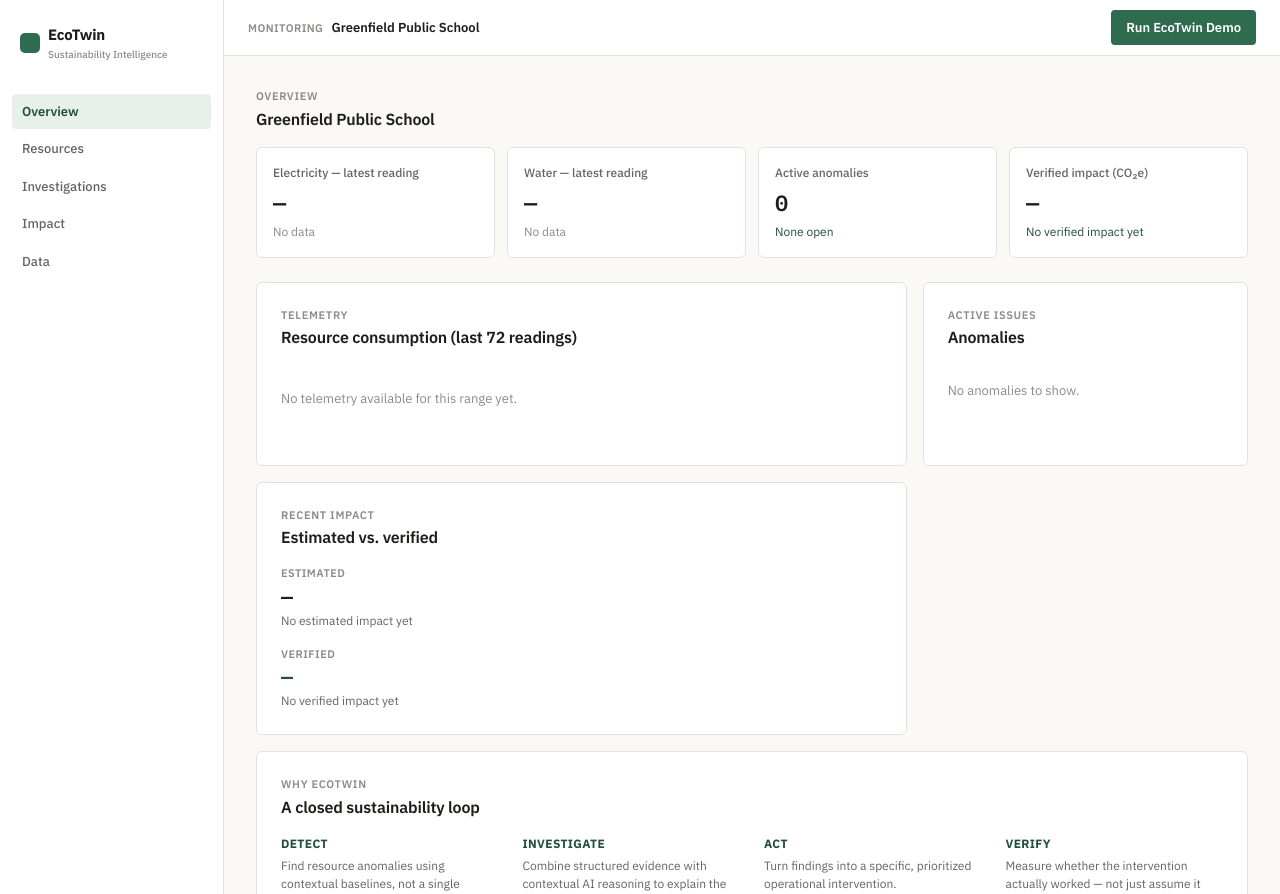
Test: App › navigates to the Investigations page
The width and height of the screenshot is (1280, 894).
Step 1. Click the link "Investigations" → x=64, y=186, box x1=22 y1=178 x2=107 y2=194
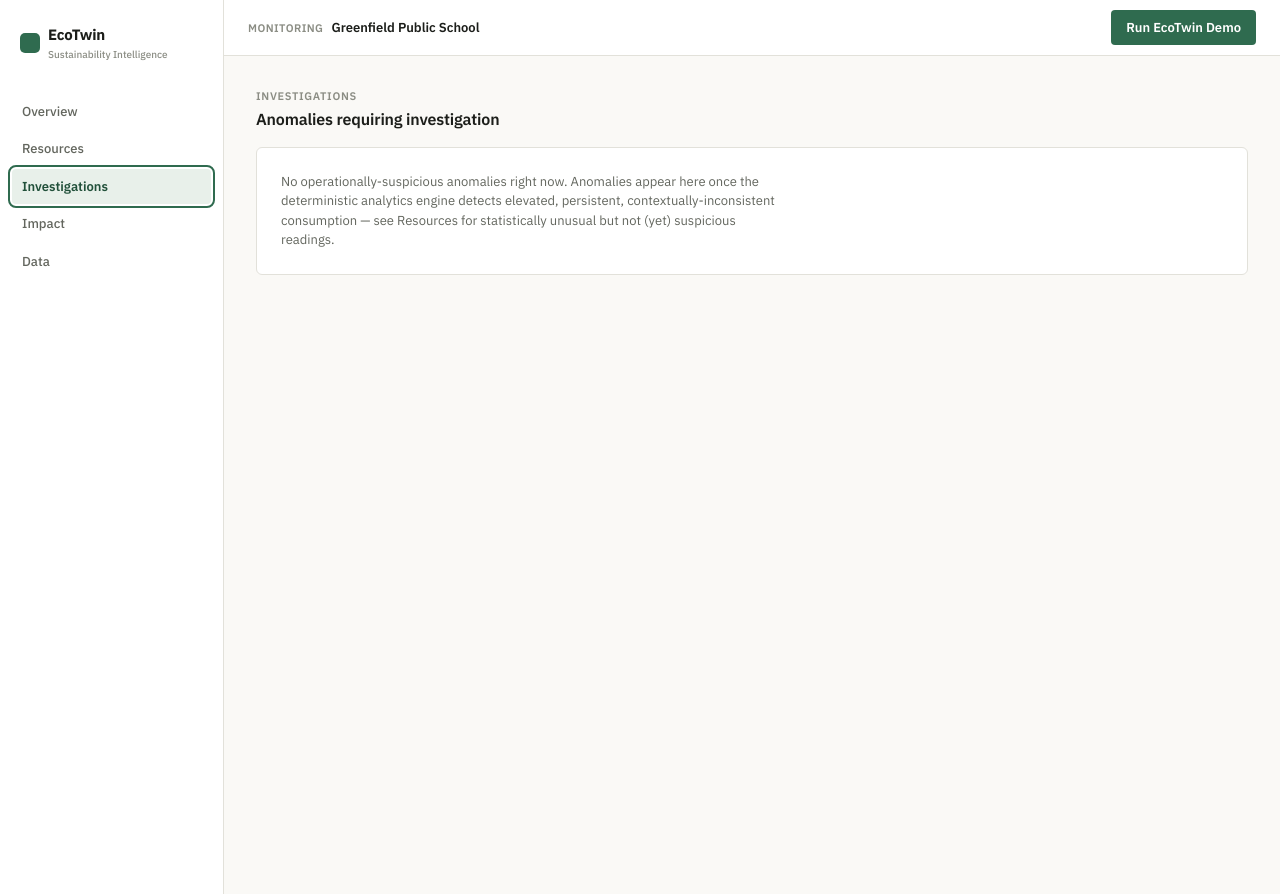
Check: the heading "Anomalies requiring investigation" is shown, box x1=256 y1=106 x2=499 y2=130
